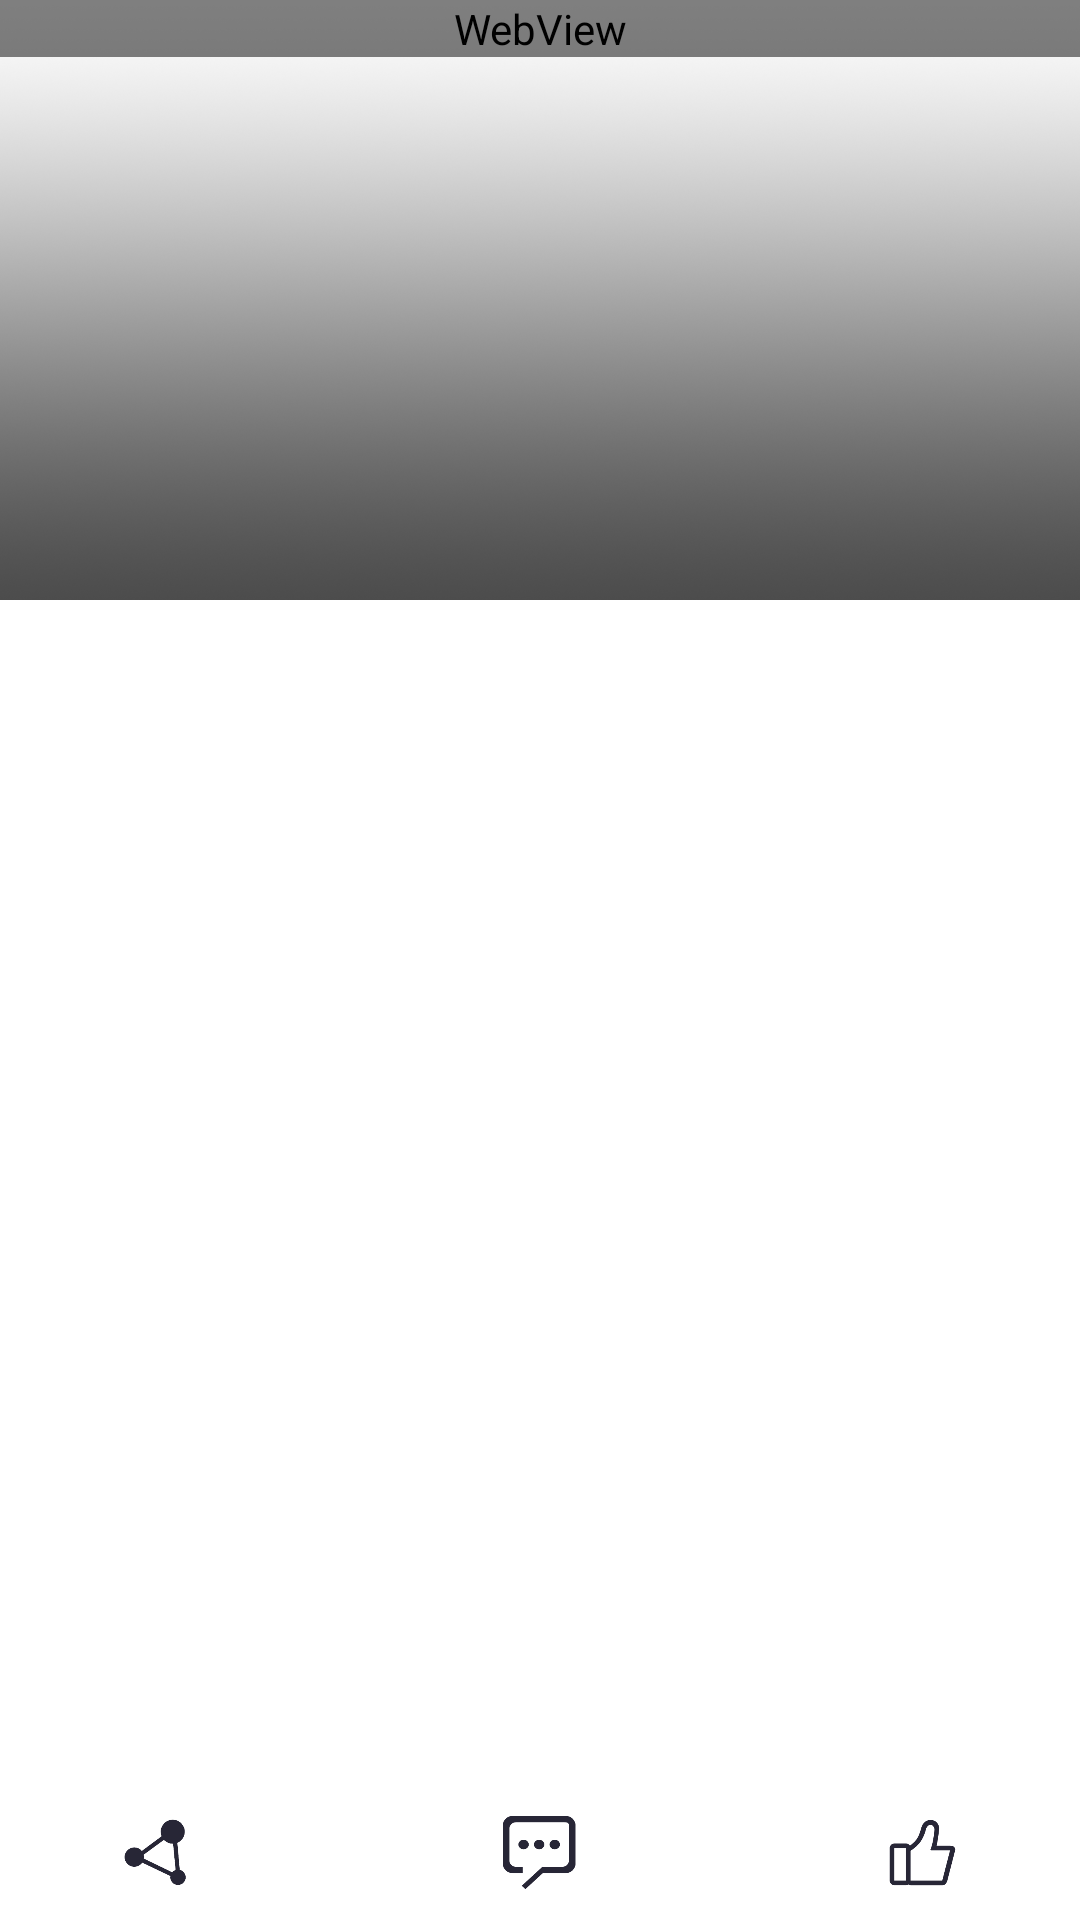

Icons on this 1080×1920 Android screen, each with its box as (left=x1, top=y1, right=x2, bottom=y2):
comment: (left=503, top=1816, right=576, bottom=1889)
like: (left=889, top=1820, right=956, bottom=1886)
share: (left=124, top=1819, right=186, bottom=1885)
